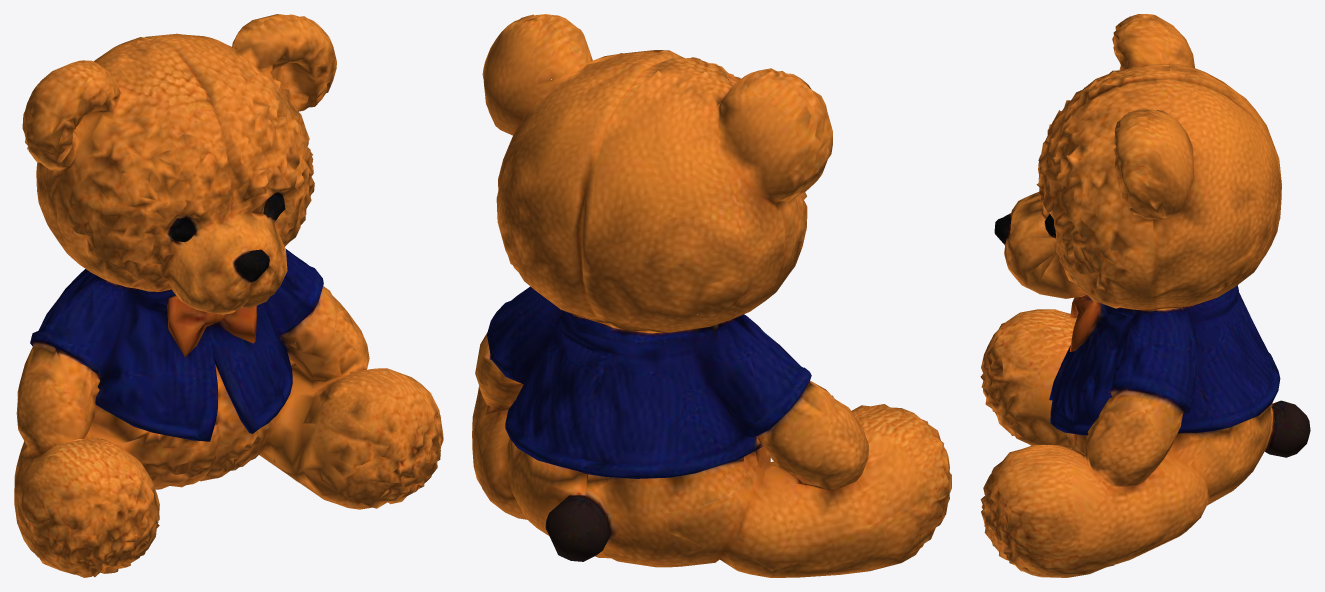
Rendered from teddy.glb.
The picture shows the model from 3 angles, left to right: view 1: azimuth 30°, elevation 25°; view 2: azimuth 150°, elevation 25°; view 3: azimuth 270°, elevation 25°; orthographic projection. The views are drawn at different scales.
Parts seen in each view (by area): view 1: prop; view 2: prop; view 3: prop.
Part boxes in pixels (bbox=[...]): prop: bbox=[14, 14, 443, 577]; prop: bbox=[472, 14, 951, 577]; prop: bbox=[980, 14, 1310, 577].
Size of the model in its own units: 0.9251 by 1 by 0.6782.
Materials: 1 (1 with a texture image).
